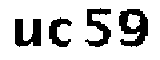5: (81, 2, 112, 49)
9: (118, 7, 150, 50)
c: (45, 17, 77, 51)
u: (11, 13, 43, 53)
